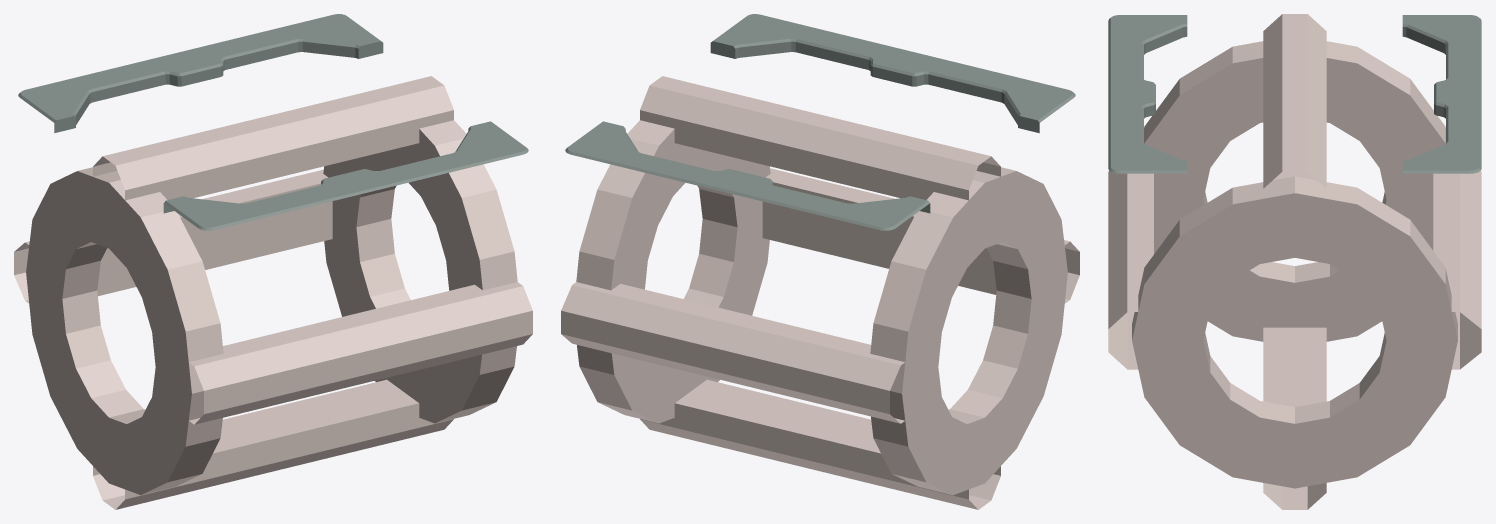
Rendered from Env_SetP_SpaceStation_ReactorPipingFloor_1x1.fbx.
3 views of the same model, side by side, from view 1: azimuth 30°, elevation 25°; view 2: azimuth 150°, elevation 25°; view 3: azimuth 270°, elevation 25° (orthographic).
Parts seen in each view (by area): view 1: PipeStraightFloor; view 2: PipeStraightFloor; view 3: PipeStraightFloor.
Boxes of the visible parts, bbox=[...] form: PipeStraightFloor: bbox=[14, 14, 532, 509]; PipeStraightFloor: bbox=[561, 14, 1079, 509]; PipeStraightFloor: bbox=[1108, 14, 1481, 509].
Size of the model in its own units: 100 by 100 by 100.
